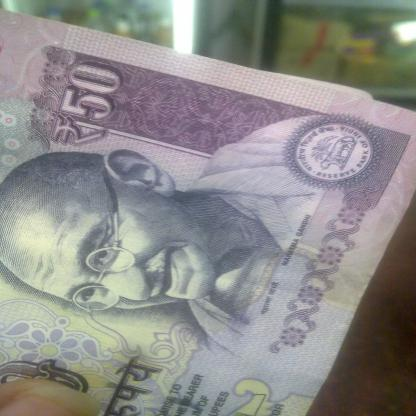Old50Front: (0, 5, 416, 416)
